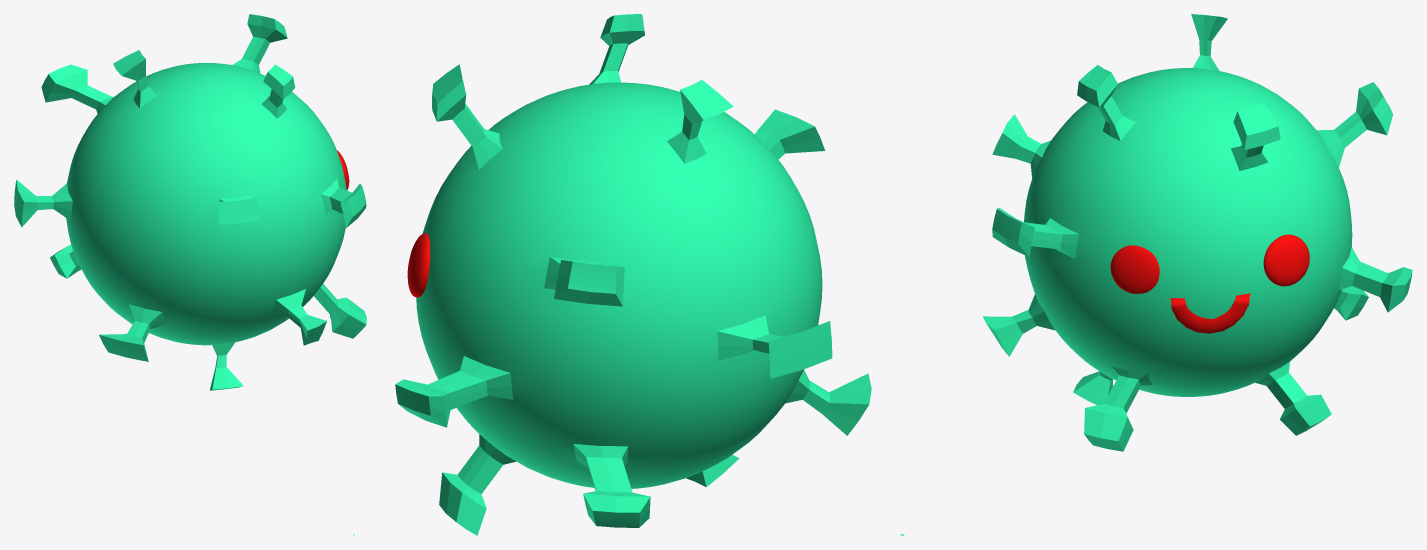
The model's file is covid19.obj.
3 views of the same model, side by side, from view 1: azimuth 30°, elevation 25°; view 2: azimuth 150°, elevation 25°; view 3: azimuth 270°, elevation 25° (orthographic). The views are drawn at different scales.
Parts seen in each view (by area): view 1: pSphere1_Mesh; view 2: pSphere1_Mesh, pSphere3_Mesh.002; view 3: pSphere1_Mesh, pSphere2_Mesh.001, pSphere3_Mesh.002, pTorus2_Mesh.004.
Boxes of the visible parts, <box> form: pSphere1_Mesh: <box>14,14,366,390</box>; pSphere1_Mesh: <box>395,14,871,535</box>; pSphere3_Mesh.002: <box>407,233,430,297</box>; pSphere1_Mesh: <box>983,14,1412,451</box>; pSphere2_Mesh.001: <box>1110,245,1159,293</box>; pSphere3_Mesh.002: <box>1263,234,1309,286</box>; pTorus2_Mesh.004: <box>1170,293,1250,333</box>.
Size of the model in its own units: 0.1116 by 0.147 by 0.1441.
